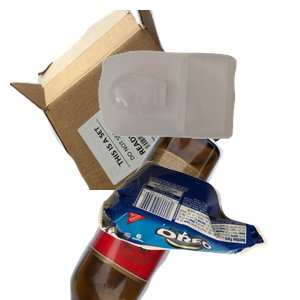cardboard: (10, 10, 227, 190)
glass: (67, 120, 282, 300)
plastic: (96, 48, 300, 179)
trash: (95, 158, 300, 300)
